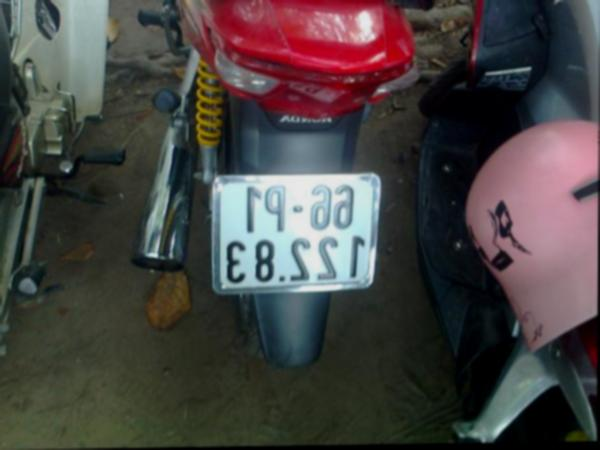License_Plate: (214, 175, 378, 295)
